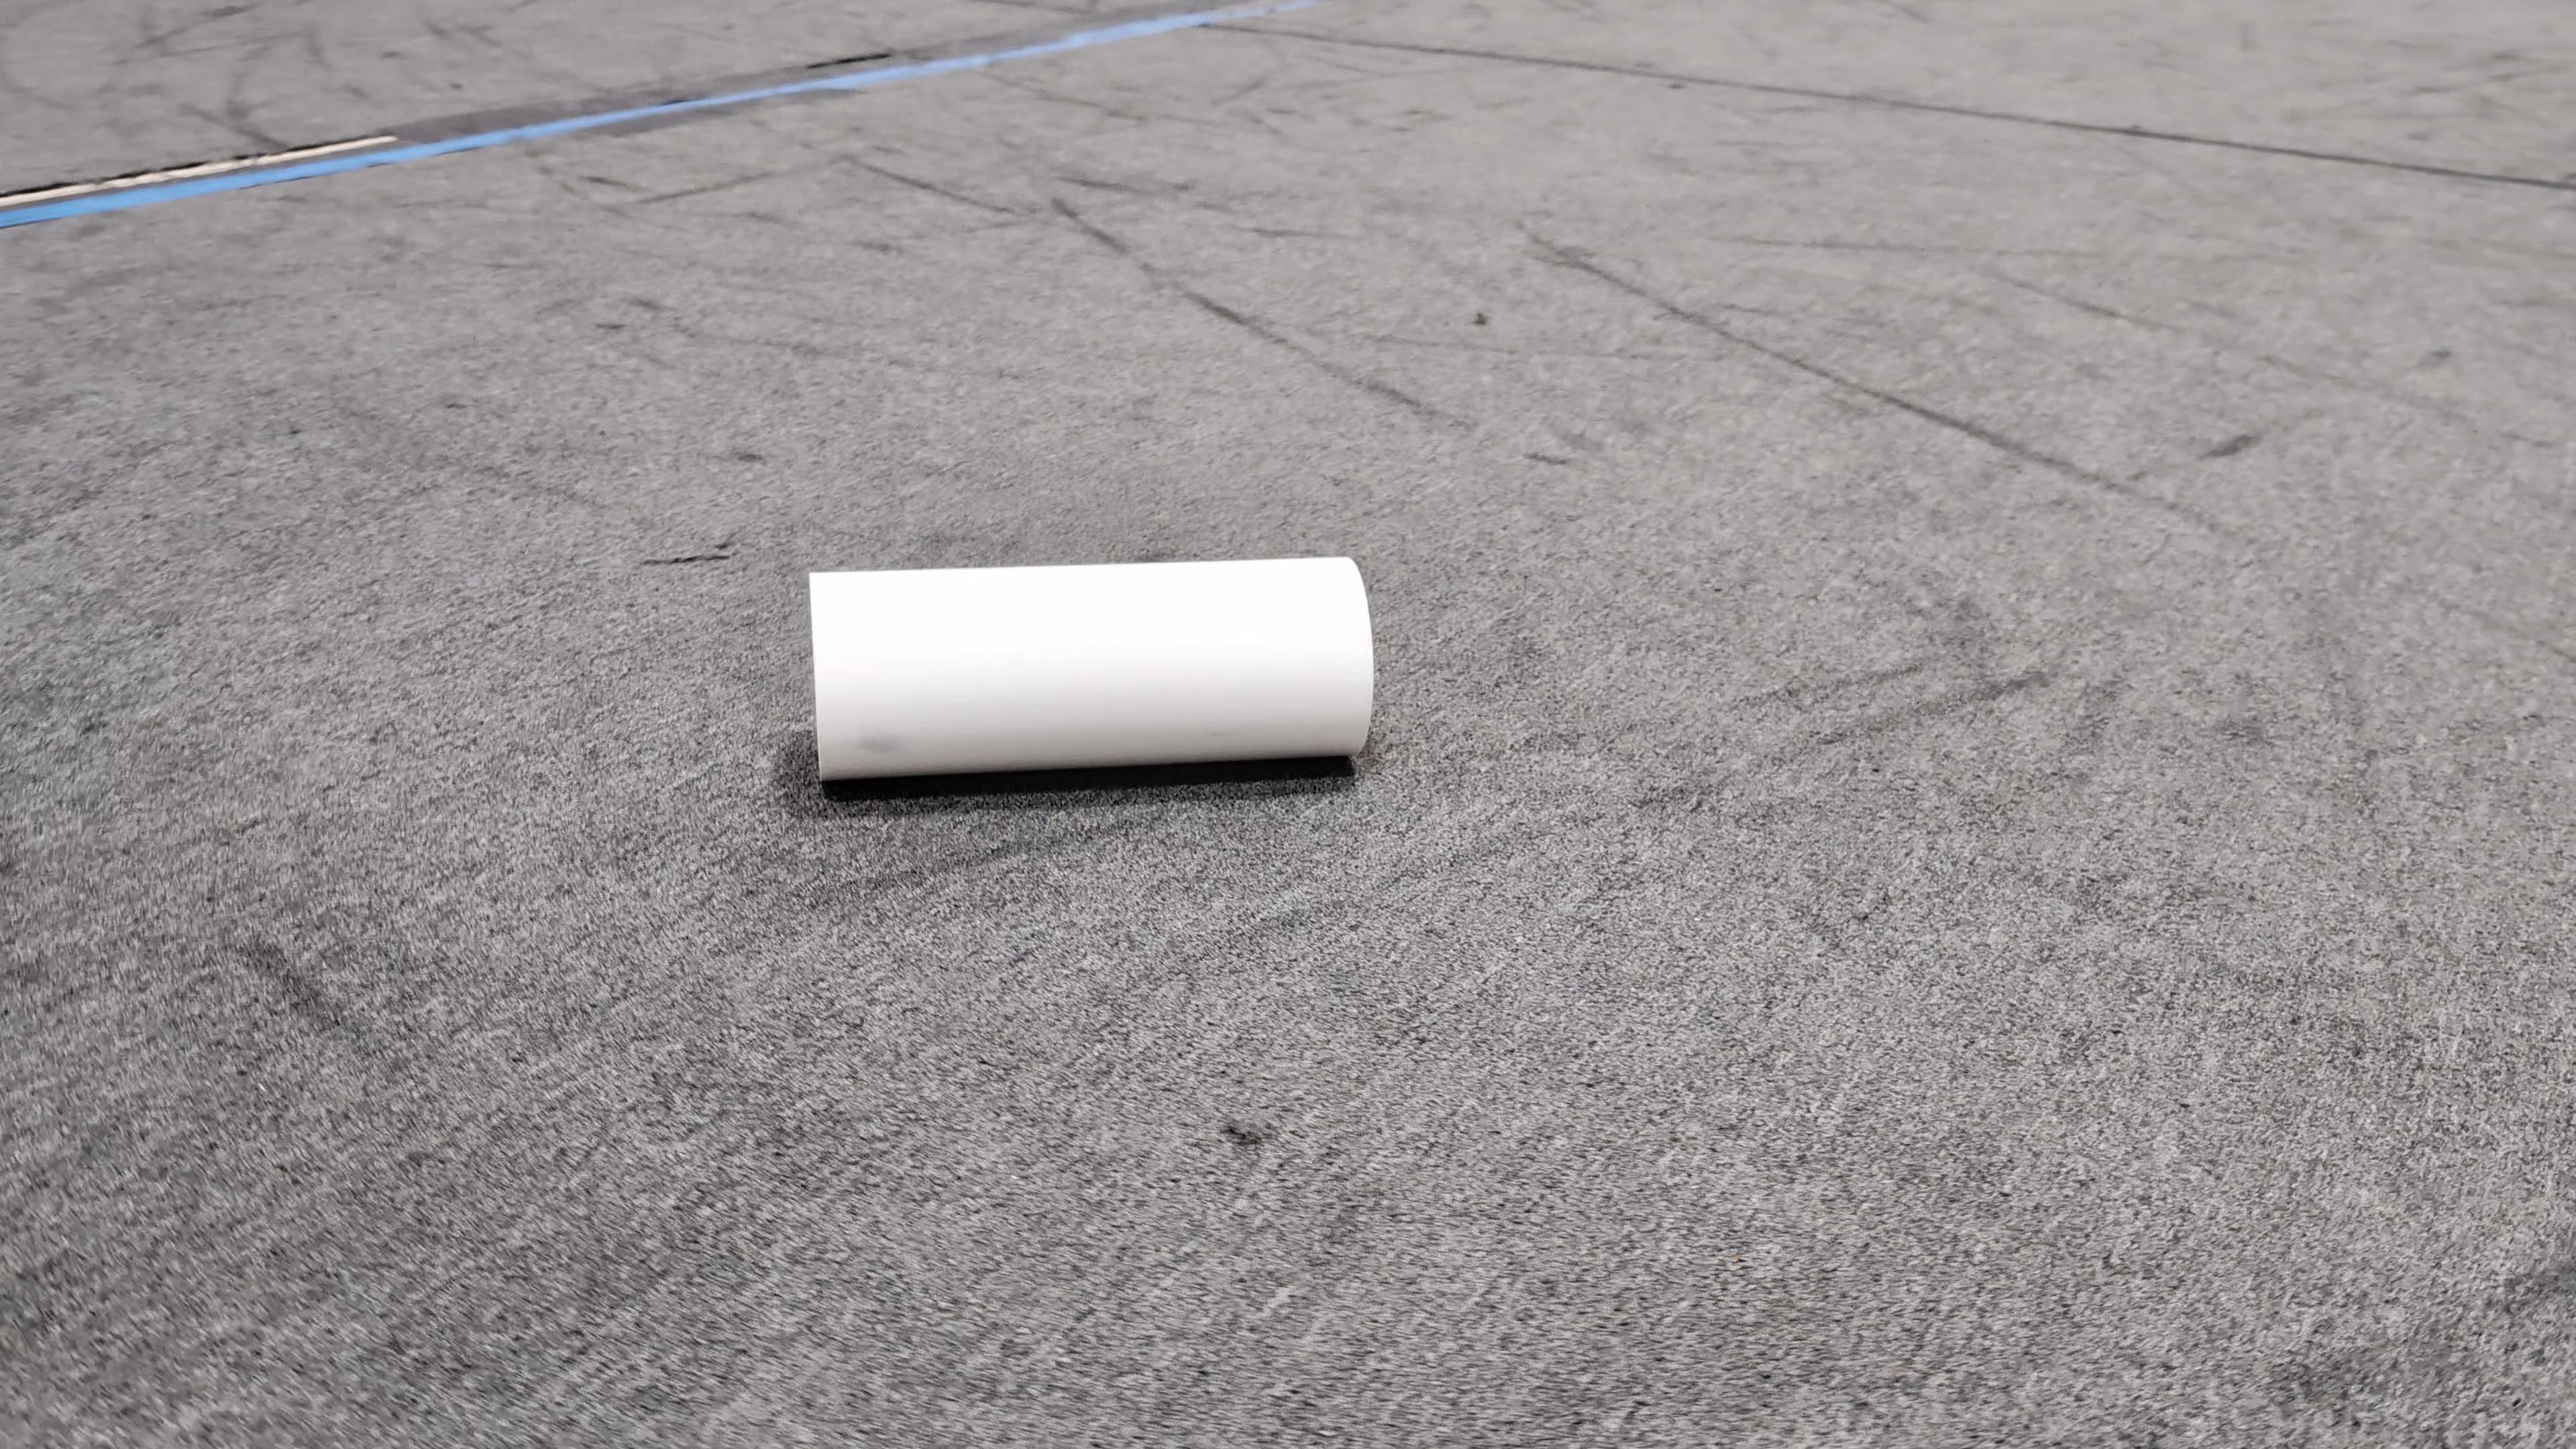coral: (807, 550, 1376, 777)
